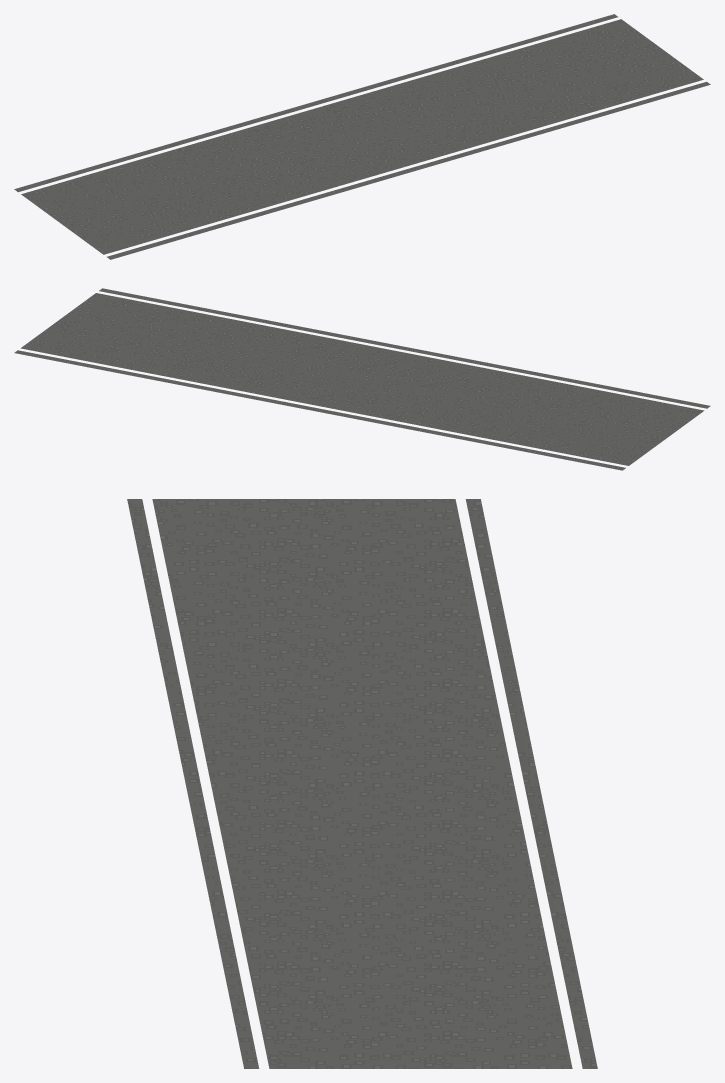
File: kd_stage_135ebf_3_29.glb
The picture shows the model from 3 angles, top to bottom: view 1: azimuth 30°, elevation 25°; view 2: azimuth 150°, elevation 25°; view 3: azimuth 270°, elevation 25°; orthographic projection. The views are drawn at different scales.
Parts seen in each view (by area): view 1: kd_stage_135ebf_3_29; view 2: kd_stage_135ebf_3_29; view 3: kd_stage_135ebf_3_29.
Boxes of the visible parts, <box> form: kd_stage_135ebf_3_29: <box>14,14,710,259</box>; kd_stage_135ebf_3_29: <box>14,288,710,470</box>; kd_stage_135ebf_3_29: <box>127,499,597,1068</box>.
Size of the model in its own units: 26.48 by 0.0988 by 9.32.
Materials: 1 (1 with a texture image).
